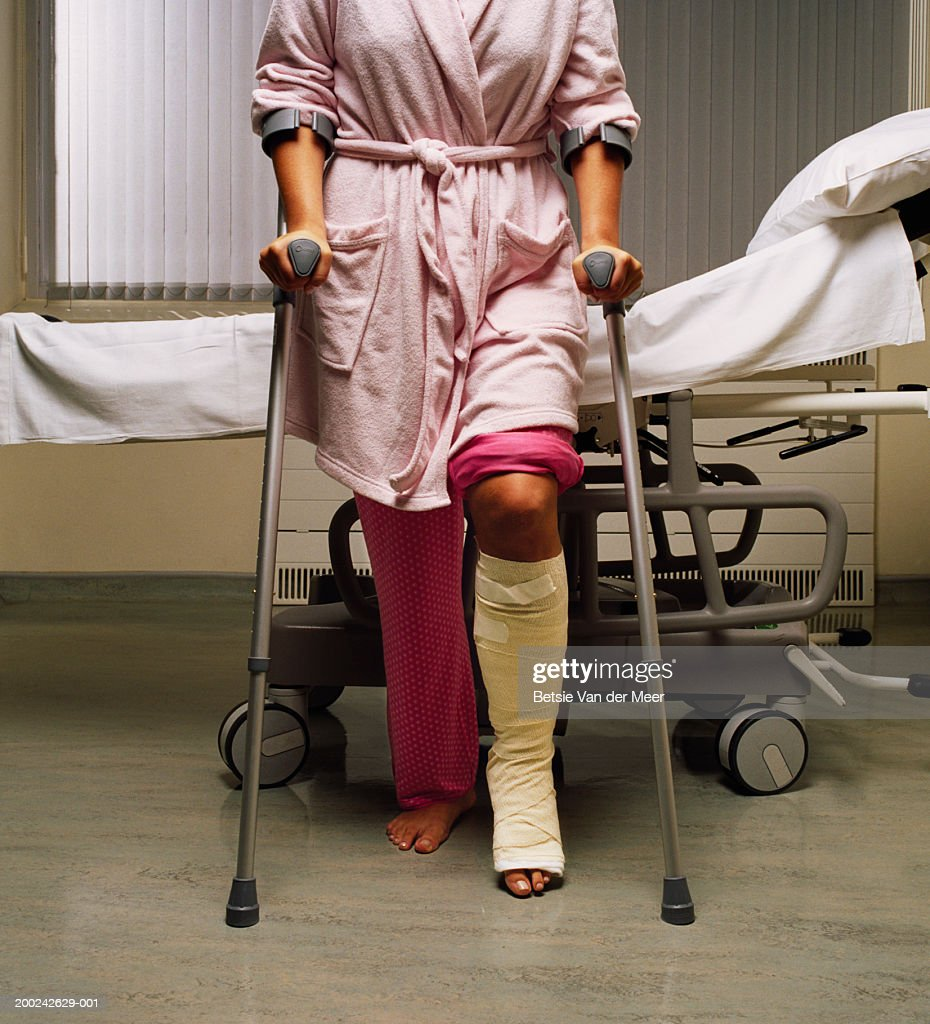crutches: (224, 4, 698, 926)
